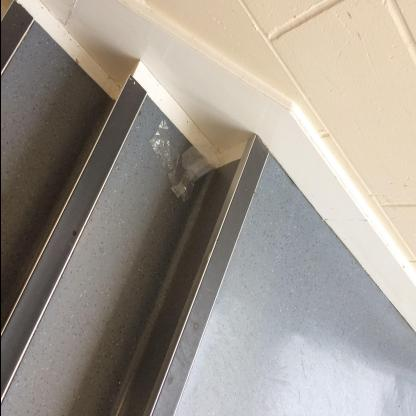plastik: (148, 122, 230, 200)
